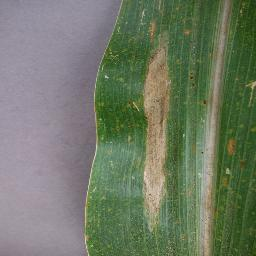Corn_Blight: (139, 17, 176, 231), (182, 23, 213, 106), (82, 158, 101, 255), (95, 18, 122, 82), (219, 131, 243, 197), (200, 163, 217, 256), (86, 121, 132, 143), (225, 202, 246, 245), (237, 75, 256, 109), (123, 95, 145, 116), (237, 121, 256, 132)
